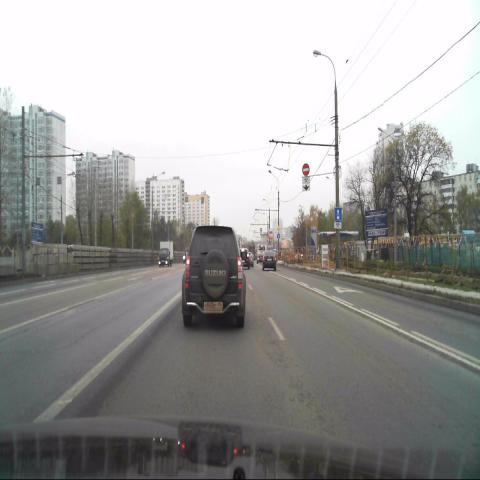3_1: (302, 163, 310, 176)
5_14: (334, 208, 342, 221)
